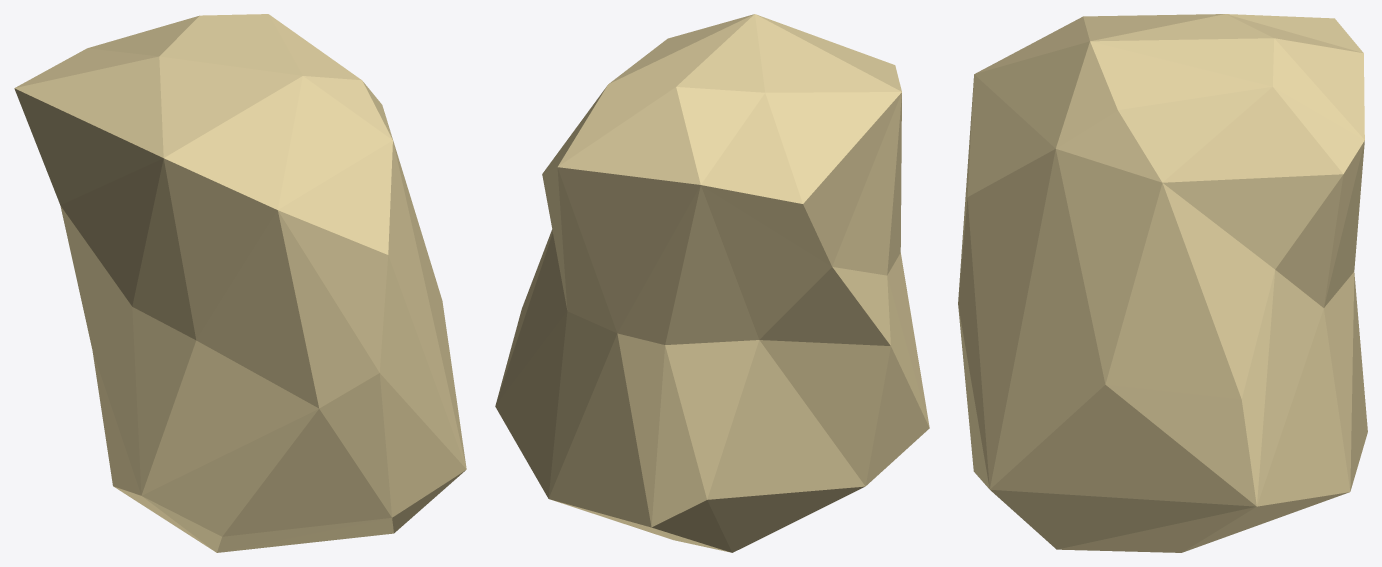
File: Rock (74).fbx
The picture shows the model from 3 angles, left to right: view 1: azimuth 30°, elevation 25°; view 2: azimuth 150°, elevation 25°; view 3: azimuth 270°, elevation 25°; orthographic projection.
Visible parts, largest first — view 1: Asteroid73; view 2: Asteroid73; view 3: Asteroid73.
Boxes of the visible parts, x1,y1,x2,y2 form: Asteroid73: [14, 14, 466, 552]; Asteroid73: [495, 14, 929, 552]; Asteroid73: [958, 14, 1367, 552].
Size of the model in its own units: 43.4 by 56.3 by 43.53.
